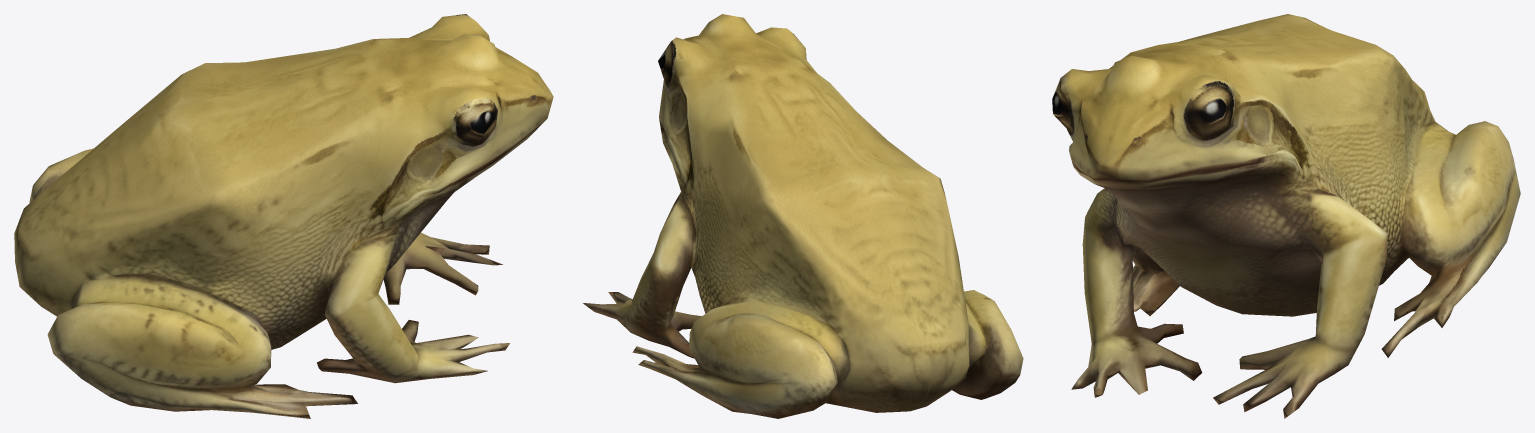
File: frog_warm_single_1500.glb
The picture shows the model from 3 angles, left to right: view 1: azimuth 30°, elevation 25°; view 2: azimuth 150°, elevation 25°; view 3: azimuth 270°, elevation 25°; orthographic projection. The views are drawn at different scales.
Size of the model in its own units: 0.8729 by 0.5935 by 0.7093.
Materials: 1 (1 with a texture image).
